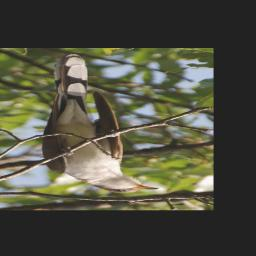Cuckoo: (39, 53, 160, 194)
